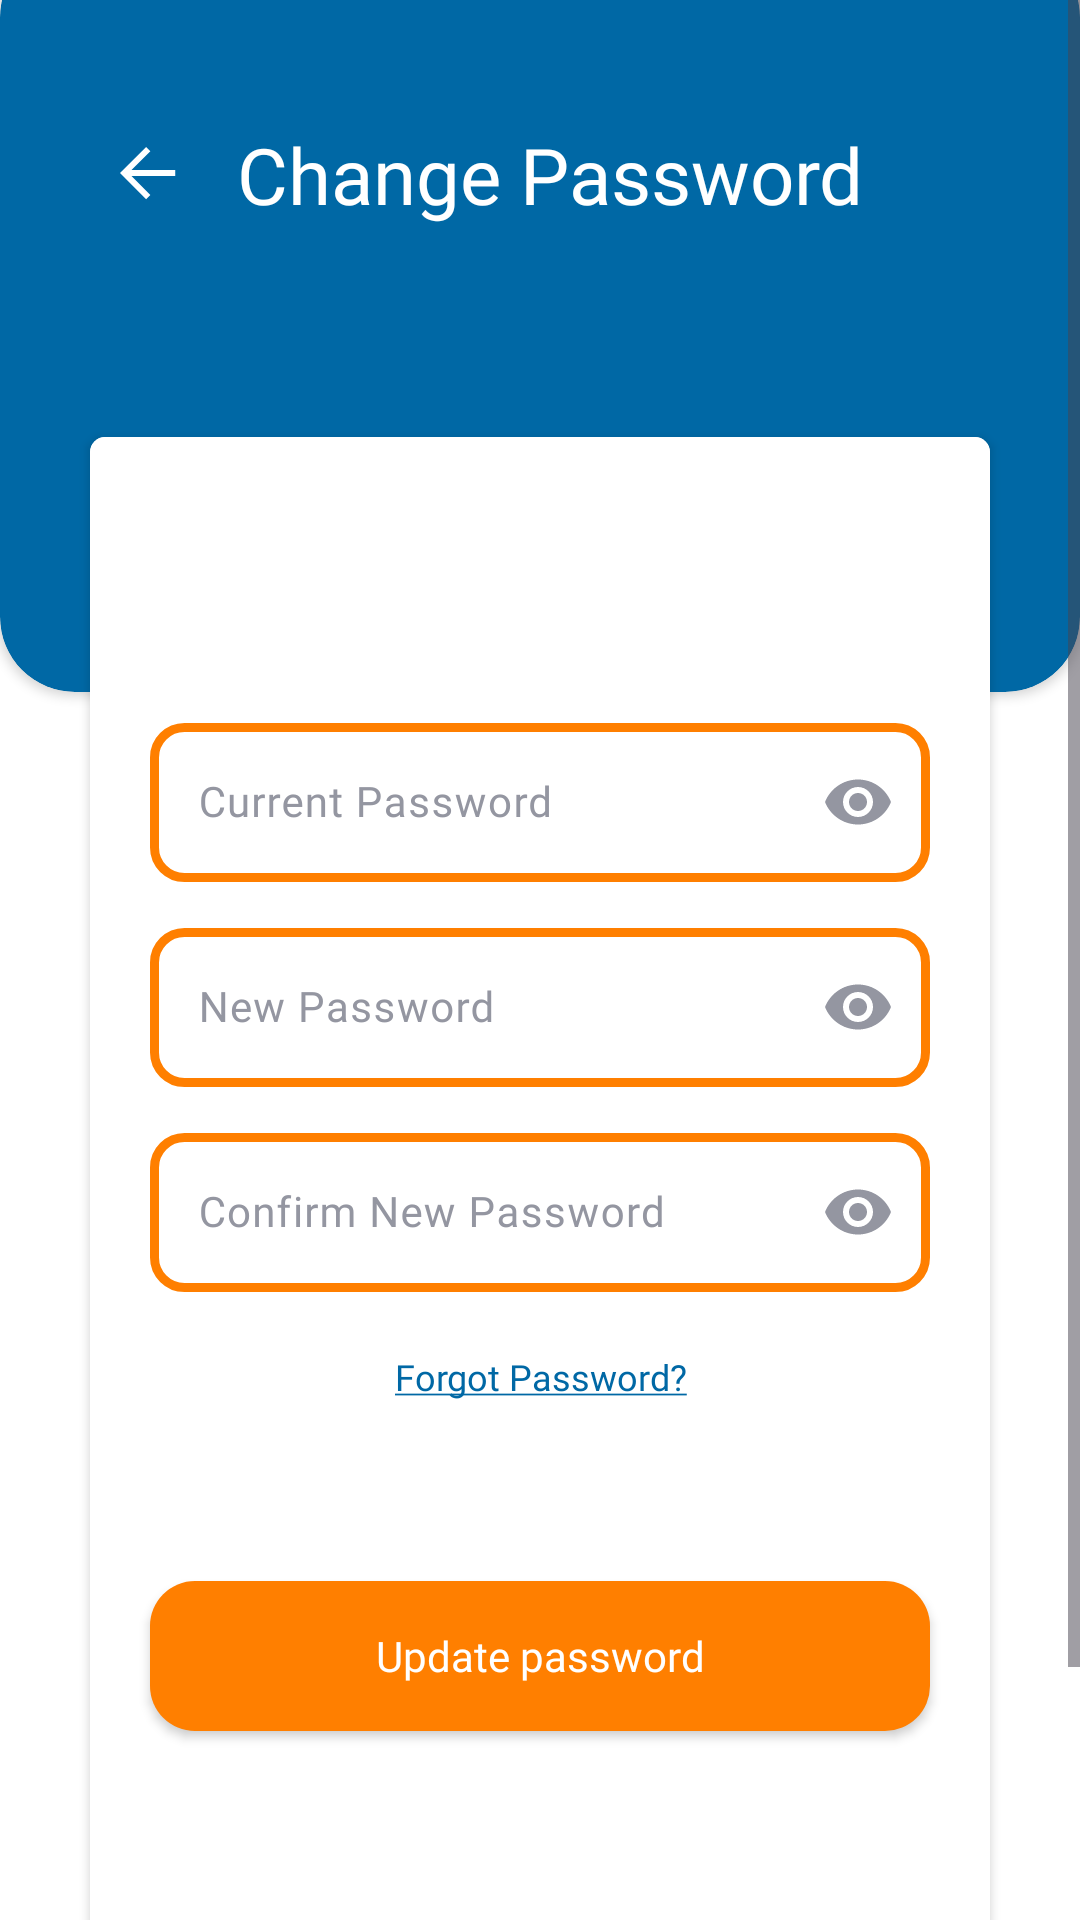

Icons on this 1080x1920 Android screen, each with the point to tap as [x,y]:
arrow: [148,173]
